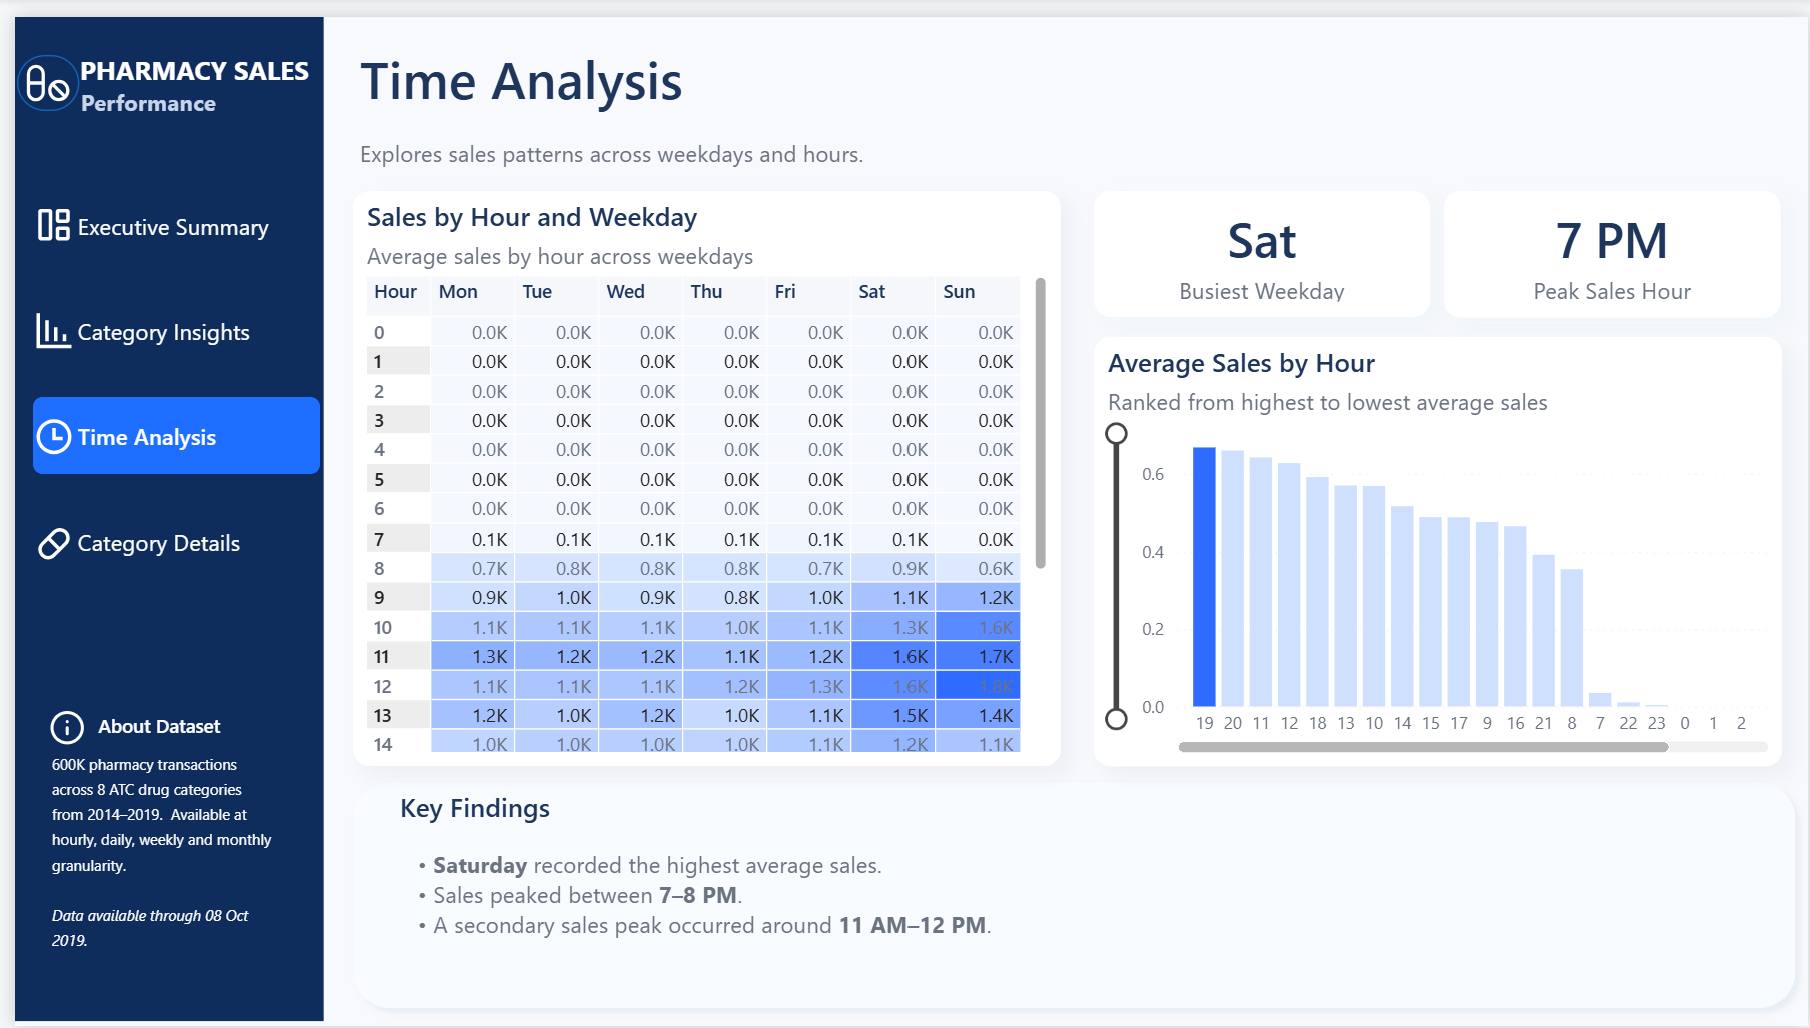

Layout of this report page (visuals, bound fields, positions):
{"tool":"powerbi","page":{"name":"Time Analysis","canvas":[1280,720],"ordinal":2},"visuals":[{"type":"shape","box":[0,0,220.5,716.6],"z":0},{"type":"textbox","box":[241.9,12.2,762.5,134.7],"z":1000},{"type":"group","id":"g1","title":"Group 1","box":[232.7,537.1,1047.3,180.7],"z":2000},{"type":"shape","box":[232.7,537.1,1047.3,179.1],"z":2500,"group":"g1"},{"type":"actionButton","box":[0,0,100,40],"z":3000},{"type":"textbox","box":[269.8,546.3,1010.1,171.5],"z":3000,"group":"g1"},{"type":"textbox","box":[15.3,19.9,228.1,72],"z":4000},{"type":"pageNavigator","box":[12.2,121,205.2,280.2],"z":5000},{"type":"image","box":[12.2,284.3,30,30.6],"z":6000},{"type":"image","box":[12.2,208.7,30,30.6],"z":7000},{"type":"image","box":[12.2,359.8,30,30.6],"z":8000},{"type":"image","box":[12.2,133.2,30,30.6],"z":9000},{"type":"image","box":[1.5,27.6,44.4,39.8],"z":10000},{"type":"textbox","box":[21.4,491.5,188.3,33.7],"z":11000},{"type":"image","box":[24.5,491.5,26,30.6],"z":12000},{"type":"textbox","box":[21.4,480.8,170,197.5],"z":13000},{"type":"card","title":"Peak Sales Hour","fields":{"Values":["_Measures.Busiest Weekday"]},"box":[770.1,124,240,90],"z":14000},{"type":"card","title":"Peak Sales Hour","fields":{"Values":["_Measures.Peak Hour Label"]},"box":[1019.7,124,240.4,90.3],"z":15000},{"type":"pivotTable","title":"Sales by Hour and Weekday","fields":{"Rows":["Fact Sales Hourly.Hour"],"Values":["_Measures.Total Hourly Sales"],"Columns":["Date Table.Weekday Name"]},"box":[241.9,124,505,410],"z":16000},{"type":"clusteredColumnChart","title":"Average Sales by Hour","fields":{"Y":["_Measures.Avg Hourly Sales"],"Category":["Fact Sales Hourly.Hour"]},"box":[770.1,228.1,491.5,306.2],"z":17000}]}

Visuals, with their boxes in screenshot pixels (x1, y1, x2, y2), scaled from the page's 1280x720 canvas onto the 1810x1028 screenshot:
shape: (0, 0, 312, 1023)
textbox: (342, 17, 1420, 210)
"Group 1" group: (329, 767, 1809, 1025)
shape: (329, 767, 1809, 1023)
actionButton: (0, 0, 141, 57)
textbox: (382, 780, 1809, 1025)
textbox: (22, 28, 344, 131)
pageNavigator: (17, 173, 307, 573)
image: (17, 406, 60, 450)
image: (17, 298, 60, 342)
image: (17, 514, 60, 557)
image: (17, 190, 60, 234)
image: (2, 39, 65, 96)
textbox: (30, 702, 297, 750)
image: (35, 702, 71, 745)
textbox: (30, 686, 271, 968)
"Peak Sales Hour" card: (1089, 177, 1428, 306)
"Peak Sales Hour" card: (1442, 177, 1782, 306)
"Sales by Hour and Weekday" pivotTable: (342, 177, 1056, 762)
"Average Sales by Hour" clusteredColumnChart: (1089, 326, 1784, 763)
